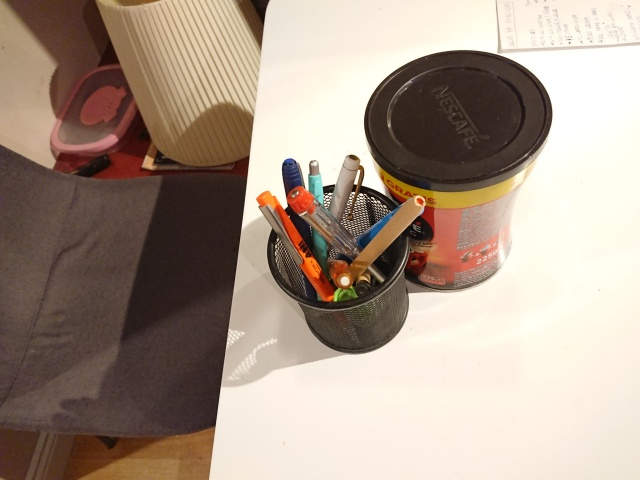Nescafe Classic 225g: (361, 47, 556, 294)
